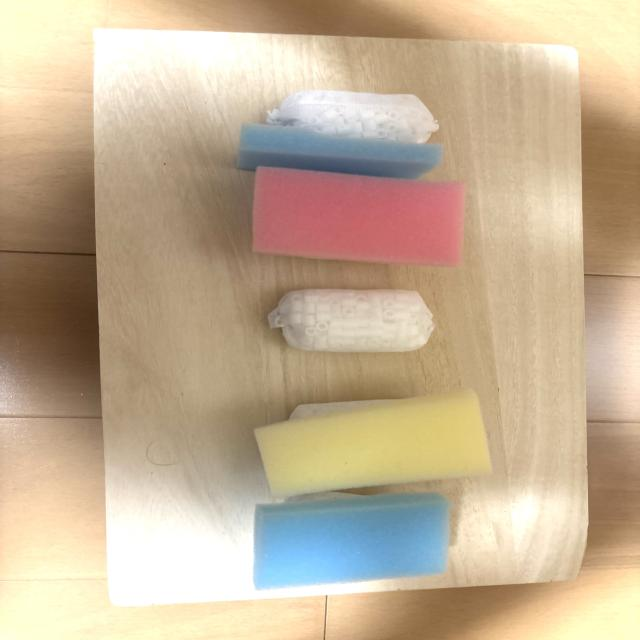NG: (237, 90, 443, 179), (268, 289, 433, 352)
ika: (253, 492, 450, 590)
tai: (252, 167, 465, 266)
tamago: (255, 390, 492, 498)
